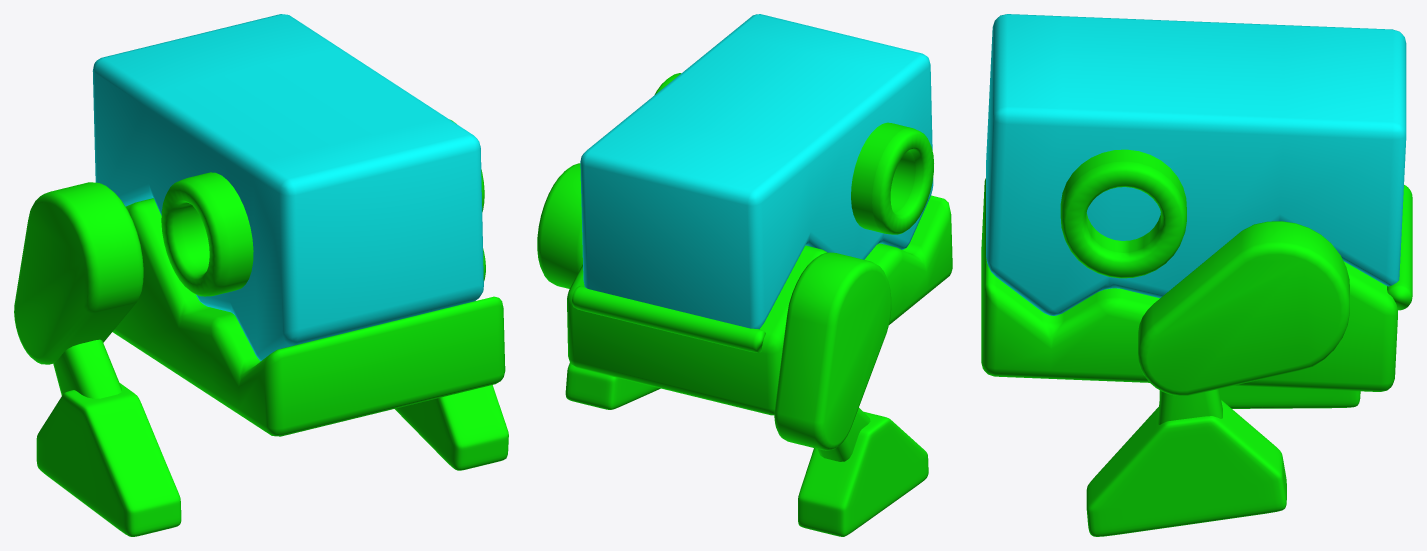
3 renders of one model, left to right at view 1: azimuth 30°, elevation 25°; view 2: azimuth 150°, elevation 25°; view 3: azimuth 270°, elevation 25°, orthographic. The views are drawn at different scales.
Parts seen in each view (by area): view 1: Top_Jaw, Lower_Jaw, Thighs_Left, Feet_Left, Eyes, Feet_Right, Shin_Left; view 2: Top_Jaw, Lower_Jaw, Thighs_Left, Feet_Left, Eyes, Hinge, Thighs_Right, Feet_Right, Shin_Left; view 3: Top_Jaw, Thighs_Right, Lower_Jaw, Feet_Right, Eyes, Feet_Left, Shin_Right, Hinge.
Boxes of the visible parts, x1,y1,x2,y2 form: Top_Jaw: [92, 14, 483, 360]; Lower_Jaw: [112, 198, 505, 436]; Thighs_Left: [14, 182, 143, 364]; Feet_Left: [36, 383, 181, 536]; Eyes: [161, 119, 484, 296]; Feet_Right: [395, 385, 508, 470]; Shin_Left: [53, 339, 121, 398]; Top_Jaw: [580, 14, 933, 329]; Lower_Jaw: [567, 195, 952, 415]; Thighs_Left: [774, 252, 891, 450]; Feet_Left: [798, 411, 928, 536]; Eyes: [654, 73, 933, 234]; Hinge: [572, 286, 765, 352]; Thighs_Right: [537, 163, 582, 288]; Feet_Right: [565, 363, 660, 409]; Shin_Left: [817, 408, 870, 461]; Top_Jaw: [986, 14, 1406, 315]; Thighs_Right: [1138, 221, 1349, 396]; Lower_Jaw: [981, 178, 1397, 391]; Feet_Right: [1086, 400, 1286, 536]; Eyes: [1060, 149, 1186, 278]; Feet_Left: [1159, 386, 1360, 408]; Shin_Right: [1158, 389, 1222, 424]; Hinge: [1387, 185, 1412, 310].
Size of the model in its own units: 2.03 by 2.2 by 2.08.
